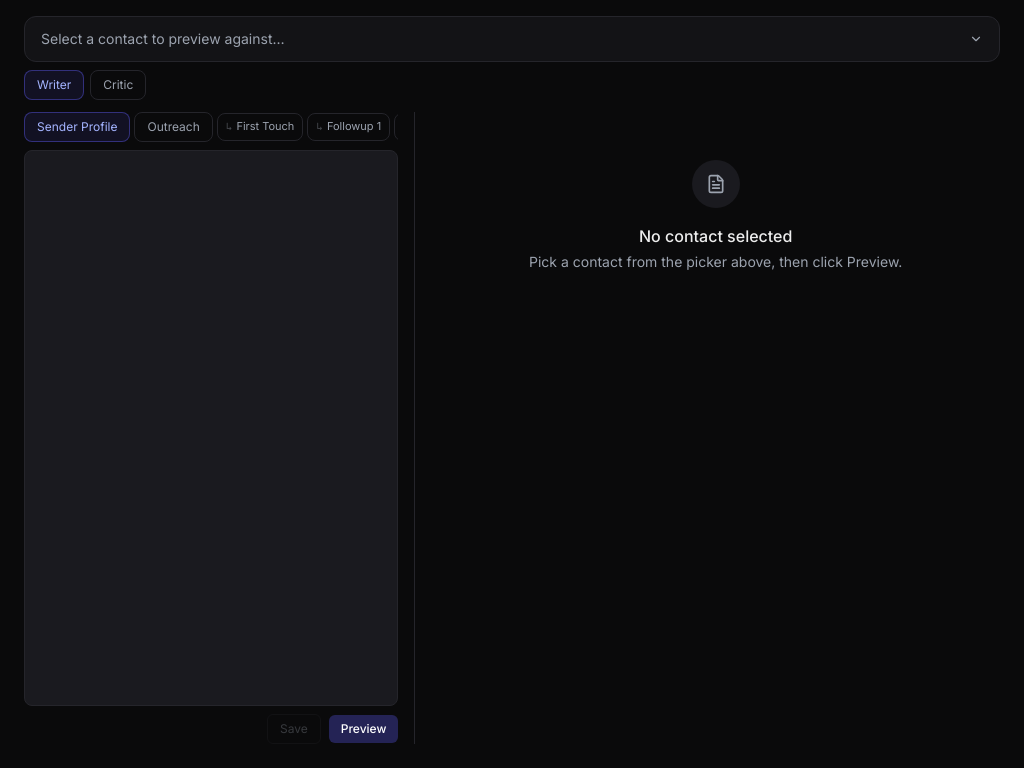
Test case: LabRoot › picks the recommended prompt tab for a selected contact, and the critic tab in critic mode
Expected: the text box named "Prompt editor for sender_profile" is shown, [24, 150, 398, 706]
Click the button with test id "contact-picker-toggle" at x=163, y=38, box [24, 16, 1000, 62]
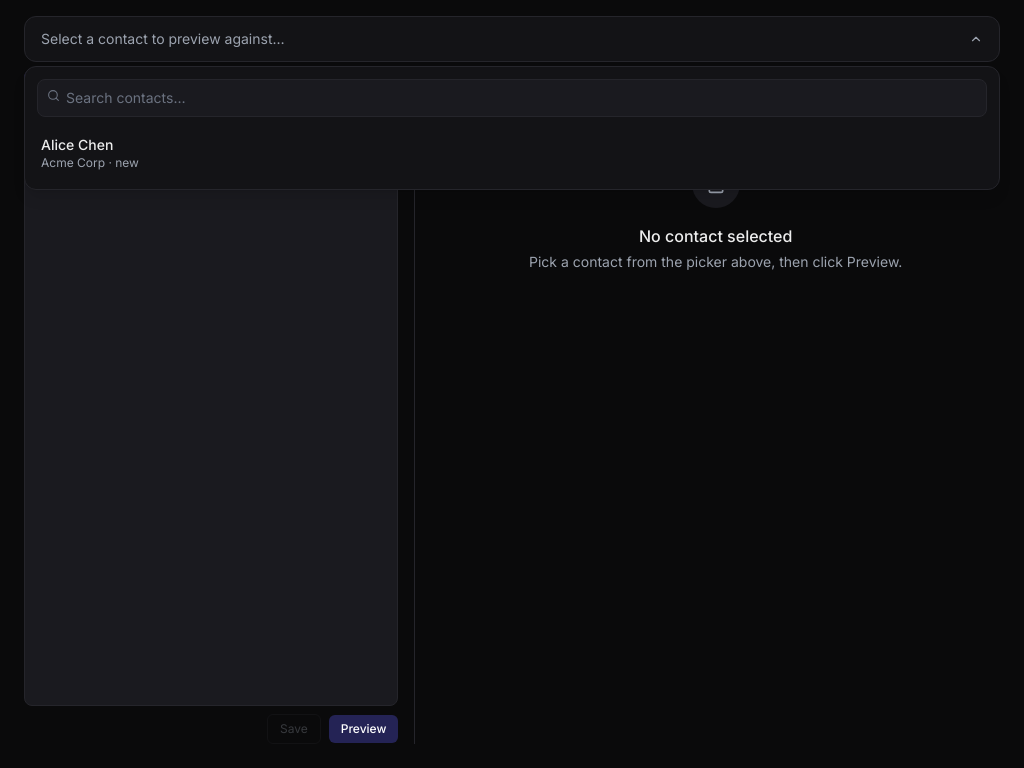
Expected: the text "Alice Chen" is shown
Click the text "Alice Chen" at x=77, y=144, box [41, 136, 113, 153]
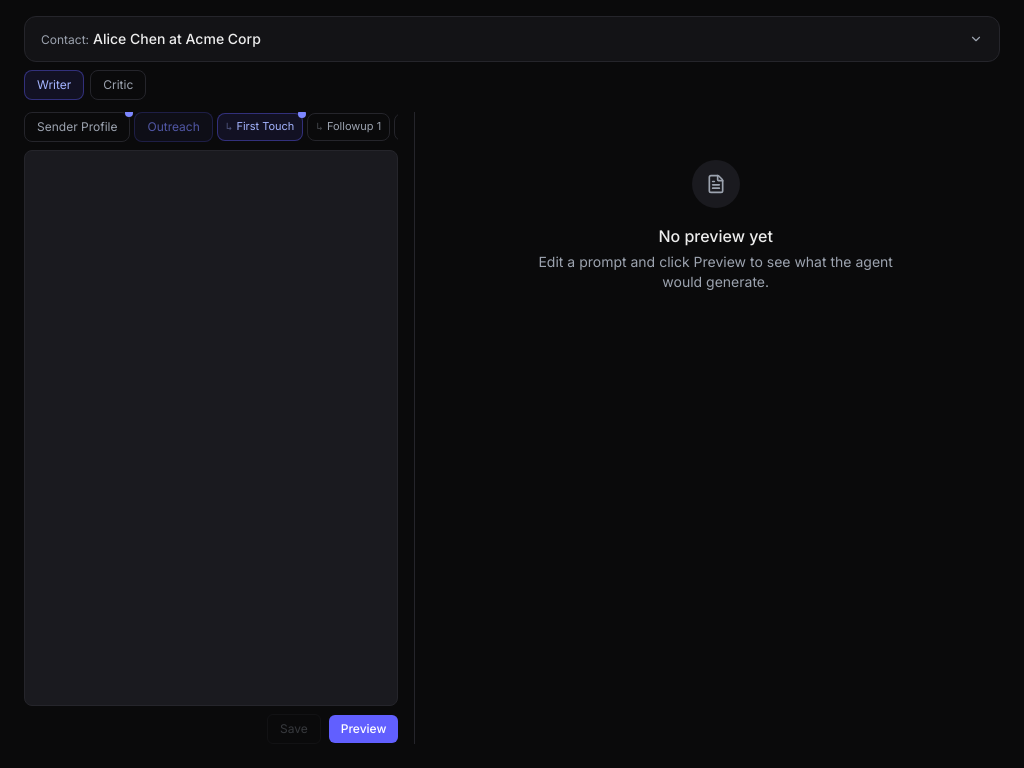
Expected: the text box named "Prompt editor for outreach_first_touch_instruction" is shown, [24, 150, 398, 706]
Click the button "critic" at x=118, y=85, box [90, 70, 146, 100]
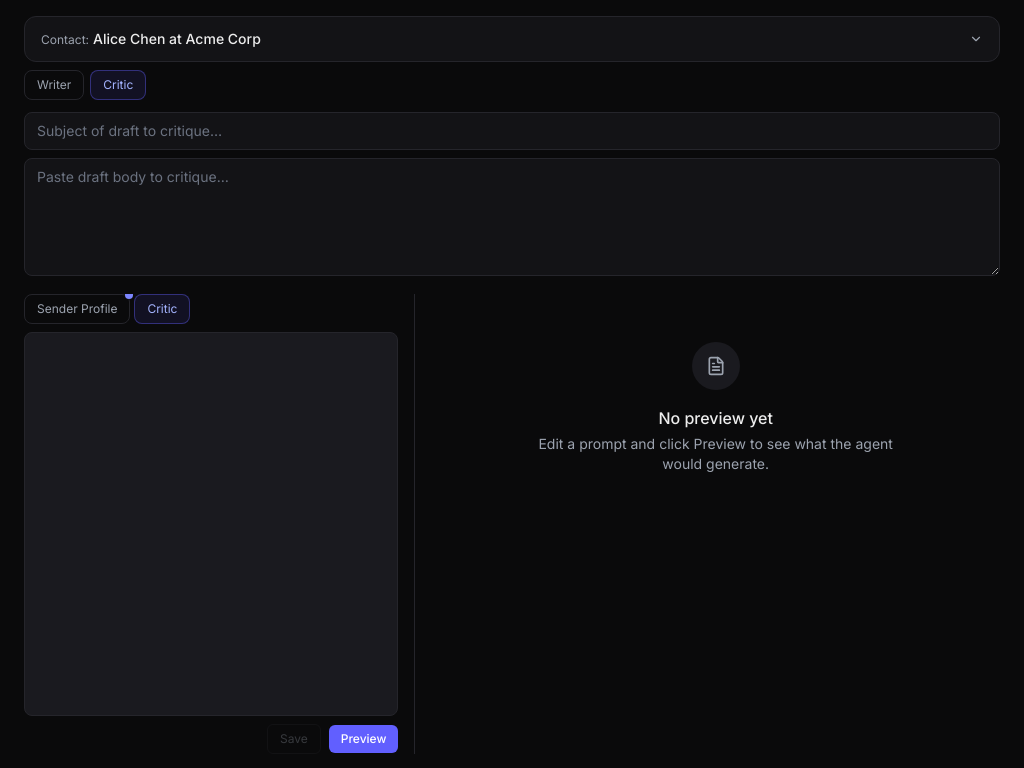
Expected: the text box named "Prompt editor for critic_prompt" is shown, [24, 332, 398, 716]
